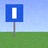sign: (6, 4, 23, 37)
